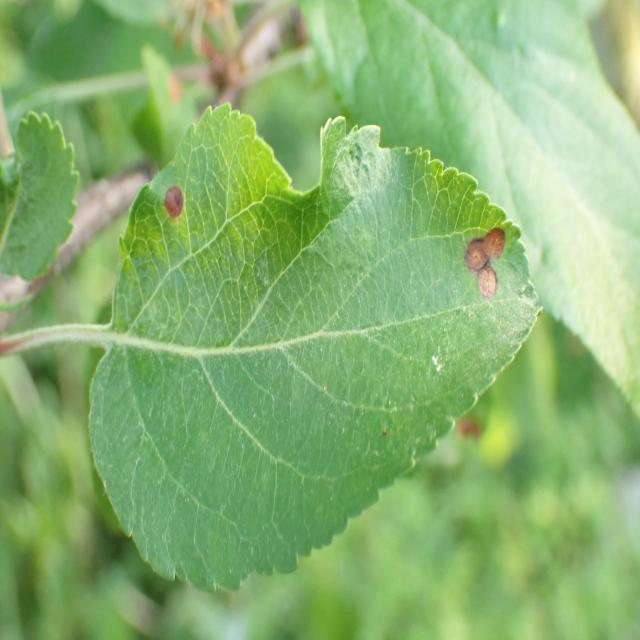Black Rot: (456, 223, 518, 320), (156, 165, 189, 242)
